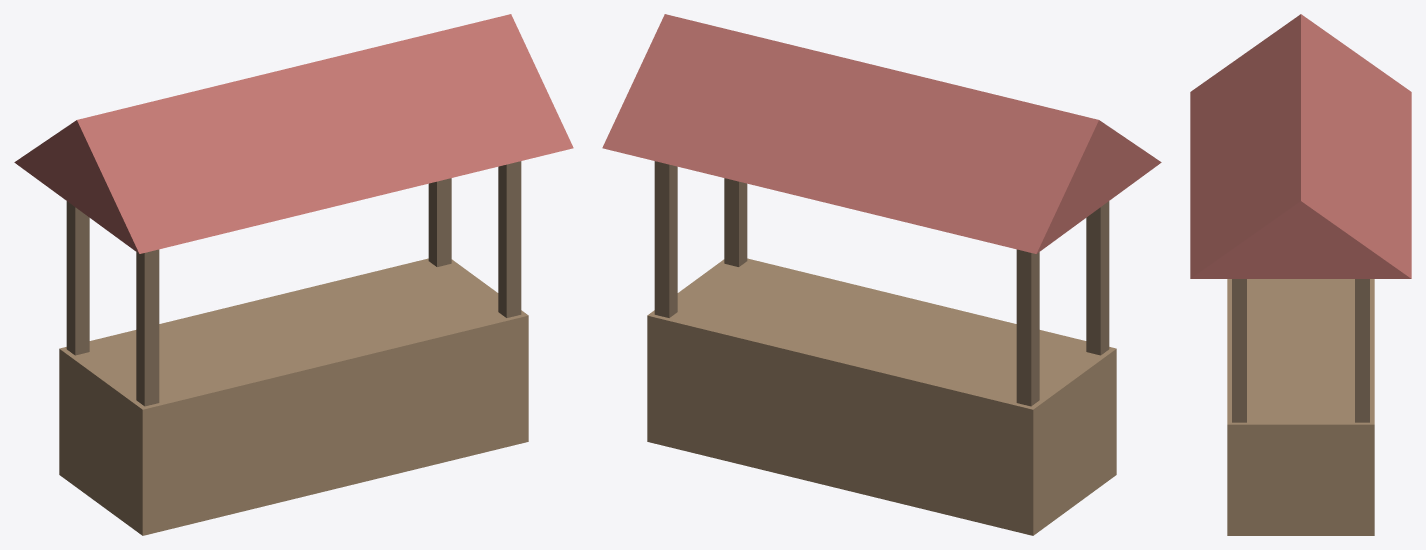
3 renders of one model, left to right at view 1: azimuth 30°, elevation 25°; view 2: azimuth 150°, elevation 25°; view 3: azimuth 270°, elevation 25°, orthographic. The views are drawn at different scales.
Parts seen in each view (by area): view 1: structure.market_stall; view 2: structure.market_stall; view 3: structure.market_stall.
Boxes of the visible parts, x1,y1,x2,y2 form: structure.market_stall: [14, 14, 573, 535]; structure.market_stall: [602, 14, 1161, 535]; structure.market_stall: [1190, 14, 1411, 535].
Size of the model in its own units: 3.6 by 3.1 by 1.8.
